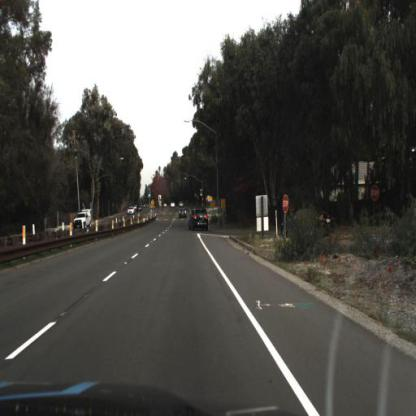car: (279, 203, 336, 242), (68, 205, 94, 233), (184, 205, 209, 232), (176, 204, 190, 218), (178, 204, 188, 220)
trafficLight-Green: (144, 186, 151, 202), (198, 186, 204, 204), (144, 182, 151, 197), (182, 173, 188, 184)
